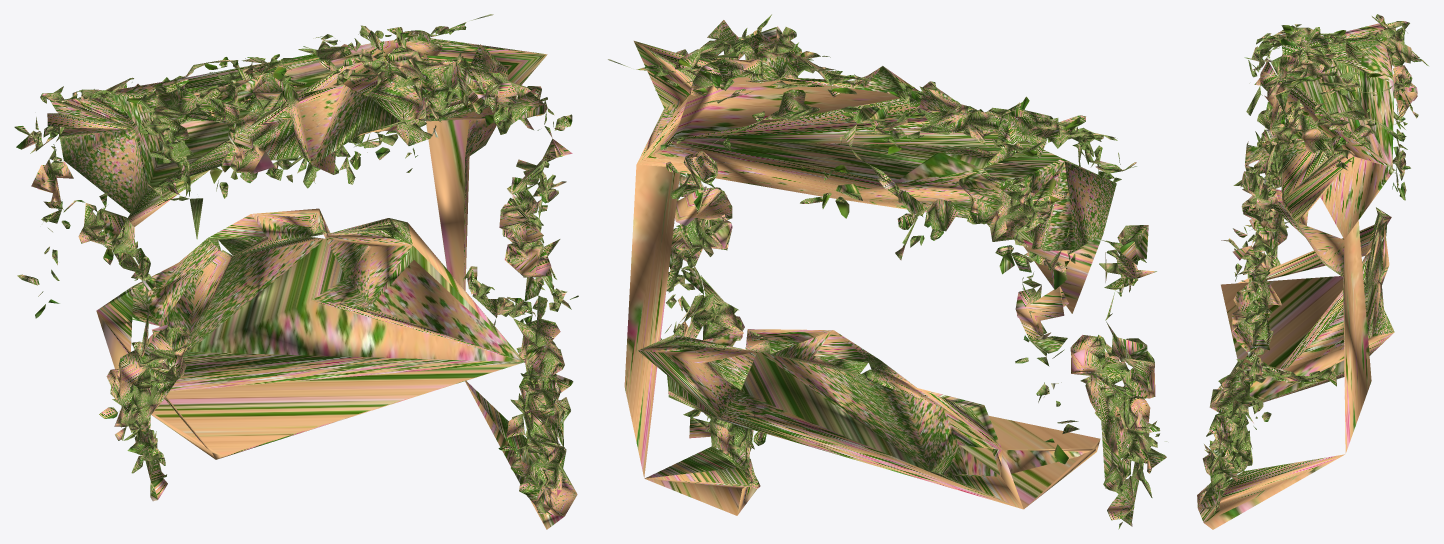
The model's file is For_Diana_This_beauti.glb.
The picture shows the model from 3 angles, left to right: view 1: azimuth 30°, elevation 25°; view 2: azimuth 150°, elevation 25°; view 3: azimuth 270°, elevation 25°; orthographic projection. The views are drawn at different scales.
Visible parts, largest first — view 1: For_Diana_This_beauti; view 2: For_Diana_This_beauti; view 3: For_Diana_This_beauti.
Boxes of the visible parts, bbox=[...] form: For_Diana_This_beauti: bbox=[14, 14, 578, 529]; For_Diana_This_beauti: bbox=[608, 14, 1166, 529]; For_Diana_This_beauti: bbox=[1197, 14, 1428, 529].
Bounding box in the file's own units: 1.89 × 1.88 × 1.01.
1 material, 1 textured.
